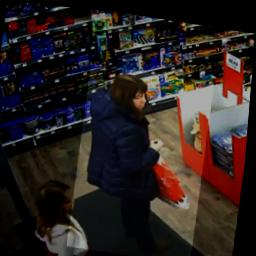nonspitting: (69, 60, 217, 255)
